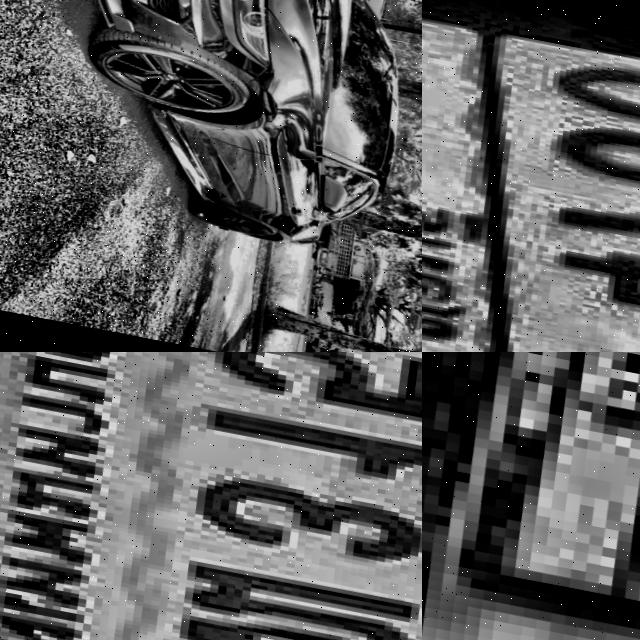license-plate: (0, 352, 422, 640), (422, 0, 640, 352), (422, 352, 640, 640)
